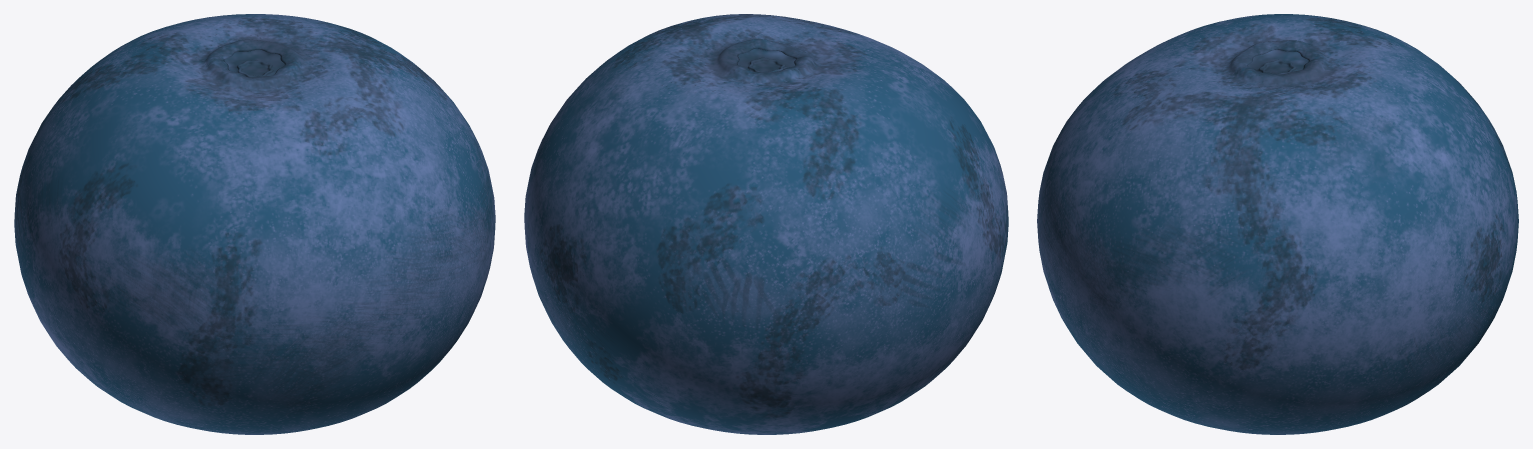
The model's file is blueberry.glb.
3 renders of one model, left to right at view 1: azimuth 30°, elevation 25°; view 2: azimuth 150°, elevation 25°; view 3: azimuth 270°, elevation 25°, orthographic.
Parts seen in each view (by area): view 1: Blueberry_0; view 2: Blueberry_0; view 3: Blueberry_0.
Boxes of the visible parts, <box> form: Blueberry_0: <box>14,14,495,434</box>; Blueberry_0: <box>524,14,1008,434</box>; Blueberry_0: <box>1037,14,1518,434</box>.
Bounding box in the file's own units: 1.16 × 0.9249 × 1.16.
1 material, 1 textured.
